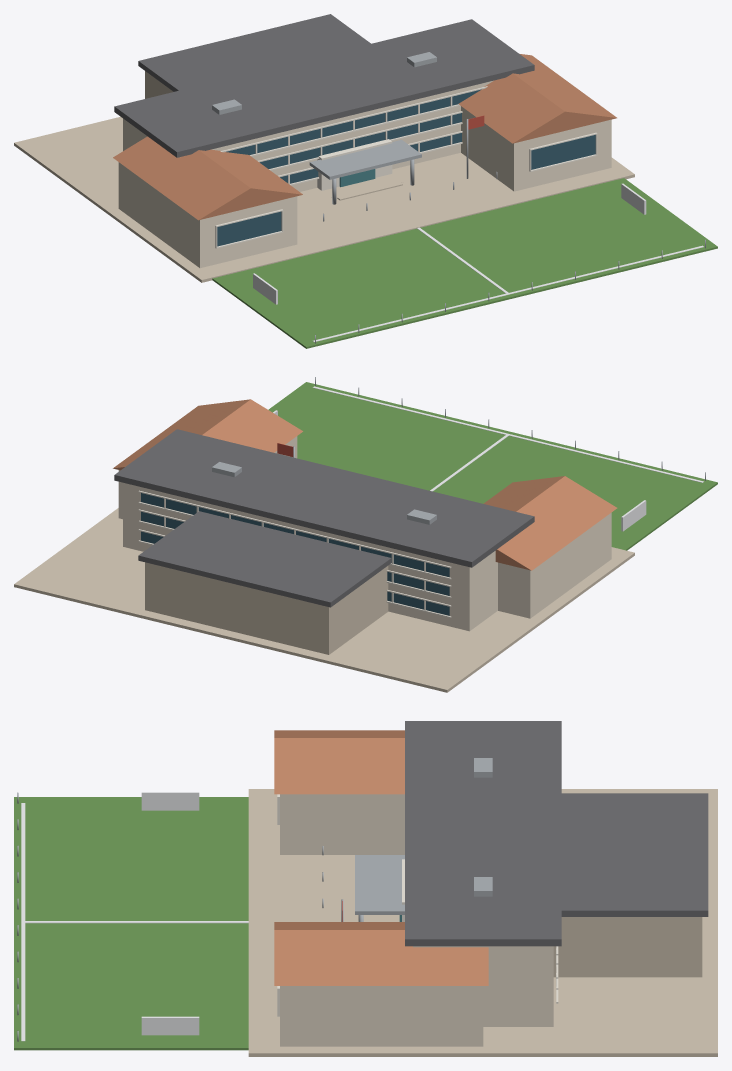
File: school.glb
3 renders of one model, top to bottom at view 1: azimuth 30°, elevation 25°; view 2: azimuth 150°, elevation 25°; view 3: azimuth 270°, elevation 25°, orthographic. The views are drawn at different scales.
Parts seen in each view (by area): view 1: school_field, Merged_RoofDark, Merged_TownStone, Merged_TownPlaster, Merged_TownRoof, Merged_WindowGlassDark, Merged_TownTrim, Merged_PropsMetal, Merged_CityWhitePaint; view 2: Merged_RoofDark, Merged_TownStone, school_field, Merged_TownPlaster, Merged_TownRoof, Merged_WindowGlassDark, Merged_TownTrim, Merged_CityWhitePaint, Merged_PropsMetal; view 3: school_field, Merged_RoofDark, Merged_TownStone, Merged_TownPlaster, Merged_TownRoof, Merged_CityWhitePaint, Merged_PropsMetal.
Part boxes in pixels (bbox=[...]): school_field: bbox=[212, 178, 717, 348]; Merged_RoofDark: bbox=[114, 14, 534, 157]; Merged_TownStone: bbox=[14, 71, 634, 282]; Merged_TownPlaster: bbox=[118, 80, 611, 268]; Merged_TownRoof: bbox=[113, 54, 616, 220]; Merged_WindowGlassDark: bbox=[217, 89, 595, 246]; Merged_TownTrim: bbox=[215, 86, 597, 248]; Merged_PropsMetal: bbox=[212, 52, 705, 343]; Merged_CityWhitePaint: bbox=[253, 183, 703, 342]; Merged_RoofDark: bbox=[114, 429, 534, 607]; Merged_TownStone: bbox=[14, 508, 634, 692]; school_field: bbox=[268, 382, 717, 550]; Merged_TownPlaster: bbox=[118, 436, 611, 631]; Merged_TownRoof: bbox=[113, 399, 617, 570]; Merged_WindowGlassDark: bbox=[141, 493, 449, 615]; Merged_TownTrim: bbox=[138, 490, 451, 617]; Merged_CityWhitePaint: bbox=[273, 386, 703, 531]; Merged_PropsMetal: bbox=[212, 377, 705, 524]; school_field: bbox=[14, 797, 248, 1050]; Merged_RoofDark: bbox=[405, 721, 708, 946]; Merged_TownStone: bbox=[248, 789, 717, 1056]; Merged_TownPlaster: bbox=[280, 794, 553, 1046]; Merged_TownRoof: bbox=[274, 730, 488, 985]; Merged_CityWhitePaint: bbox=[21, 792, 248, 1041]; Merged_PropsMetal: bbox=[17, 758, 492, 1041].
Size of the model in its own units: 80 by 14.15 by 90.
